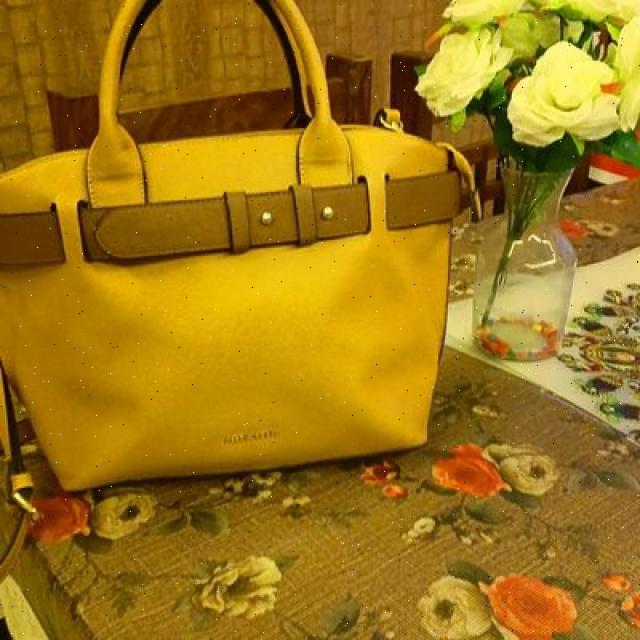handbag: (0, 0, 480, 493)
